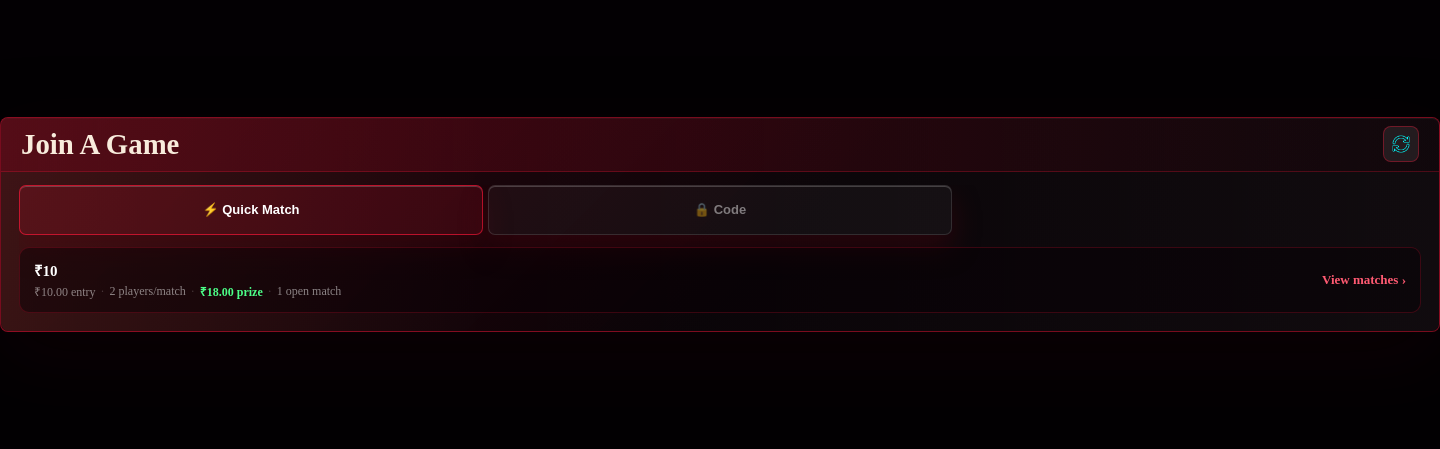
Test: Quick Match join errors › keeps the insufficient-balance message through the list reloads that follow
The width and height of the screenshot is (1440, 449).
What coordinates should you click on to do the following:
click the text "₹10"
I would click on:
 (46, 270)
Its box is [34, 262, 58, 278].
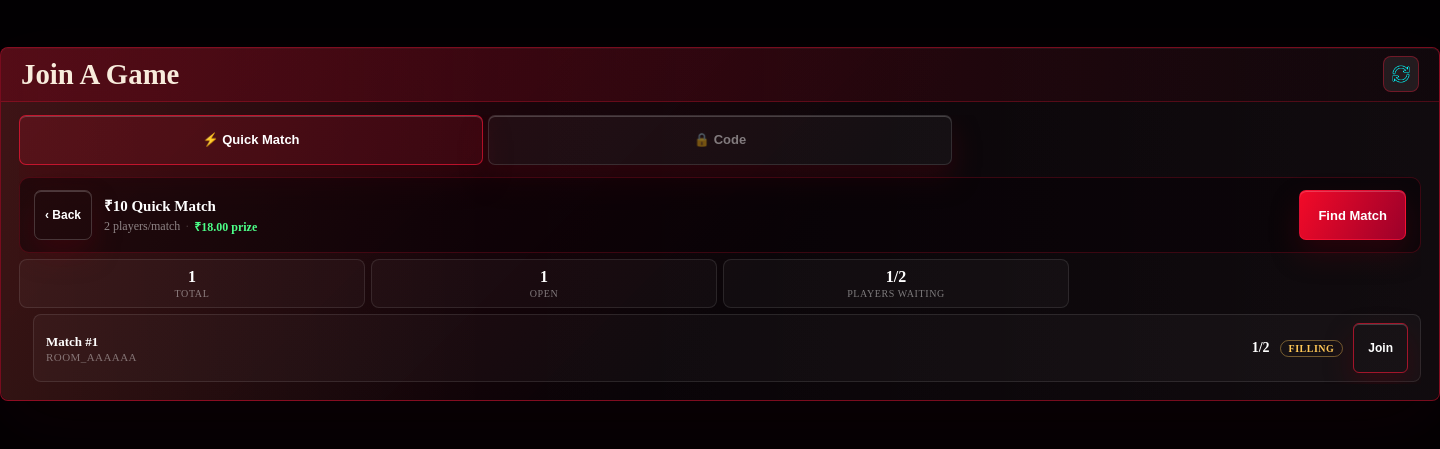
What coordinates should you click on to do the following:
click the button "Join"
I would click on:
 (1381, 348)
Its box is [1353, 323, 1408, 373].
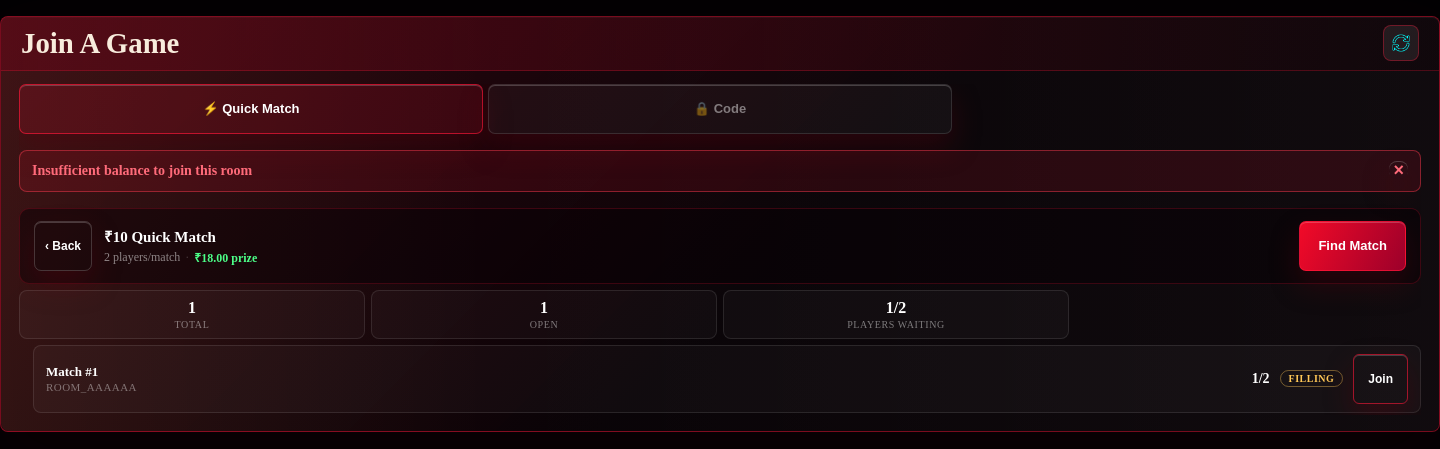
Expected: the text "Insufficient balance to join this room" is shown, [32, 161, 252, 181]
